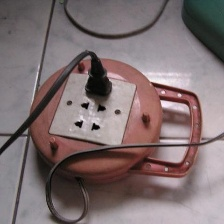three_eye_plug: (23, 50, 166, 186)
